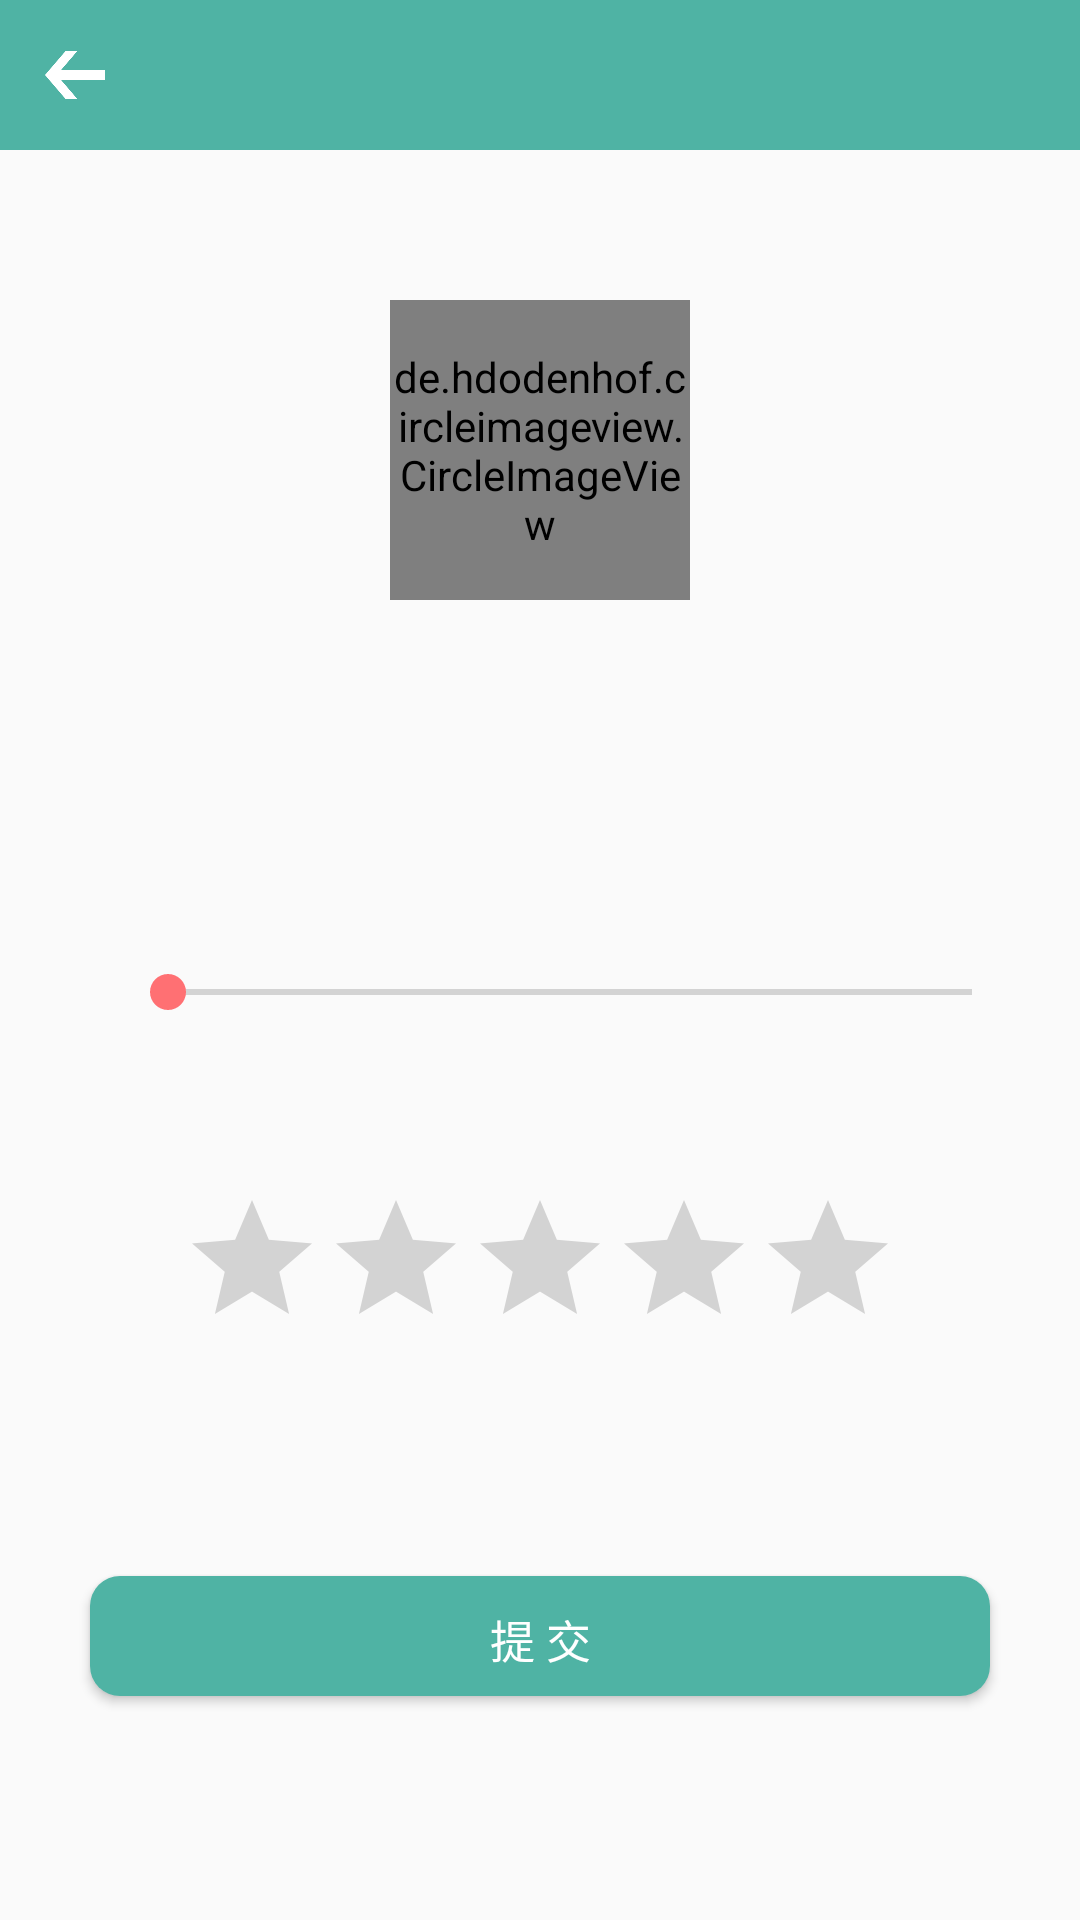

Where to tap for icons on this 1080px x 1920px app screen, as (x,y):
goback: (75,75)
